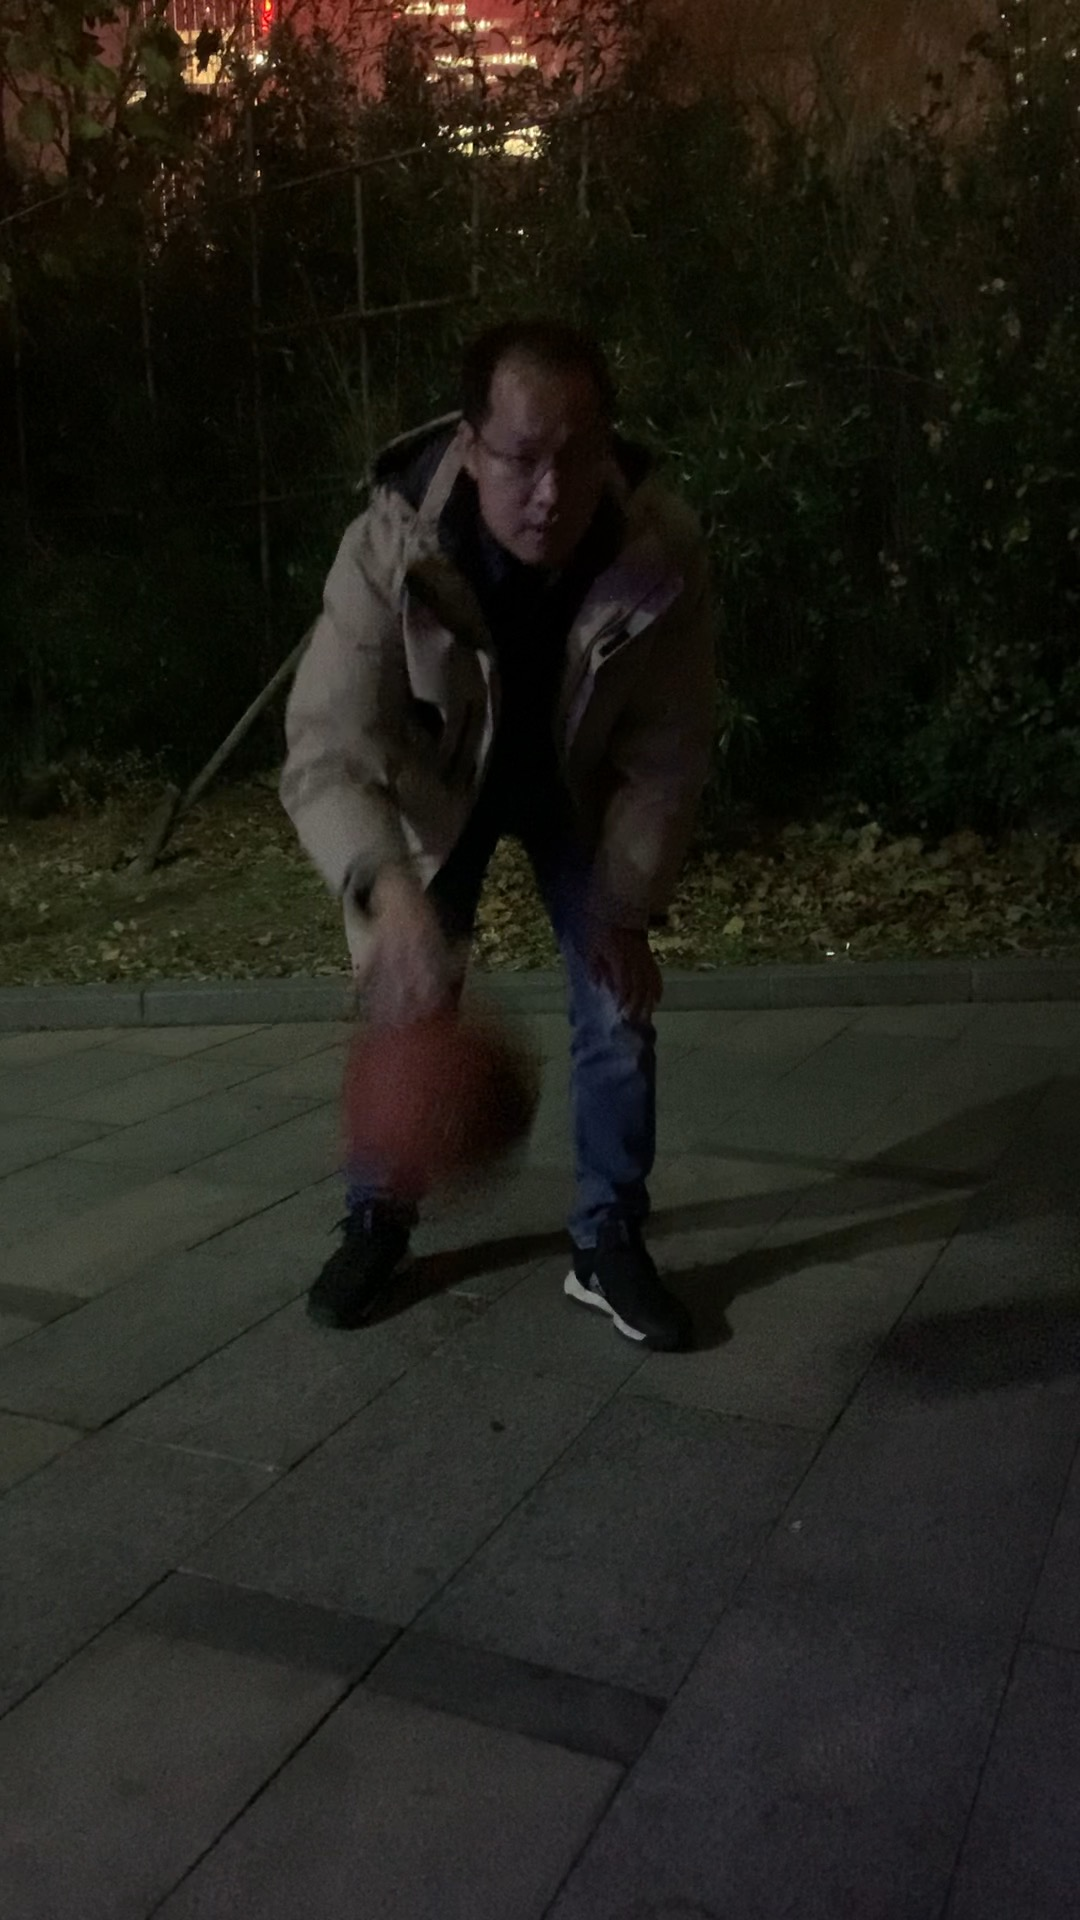ball: (336, 996, 546, 1185)
